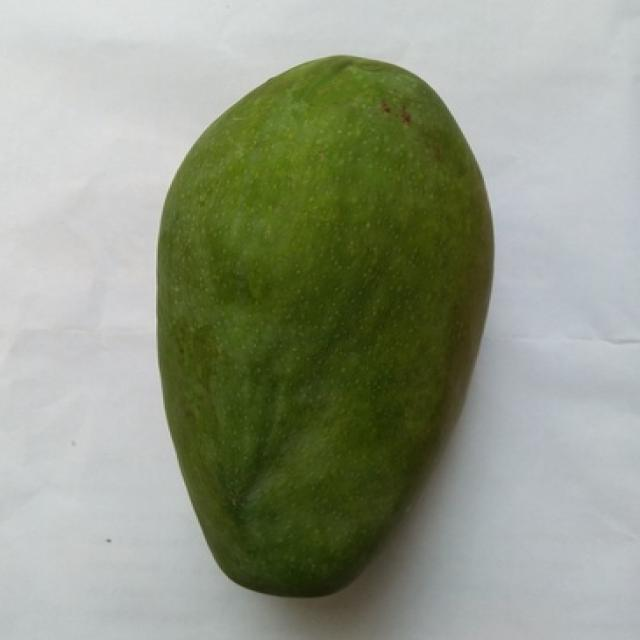Mango: (158, 57, 493, 596)
